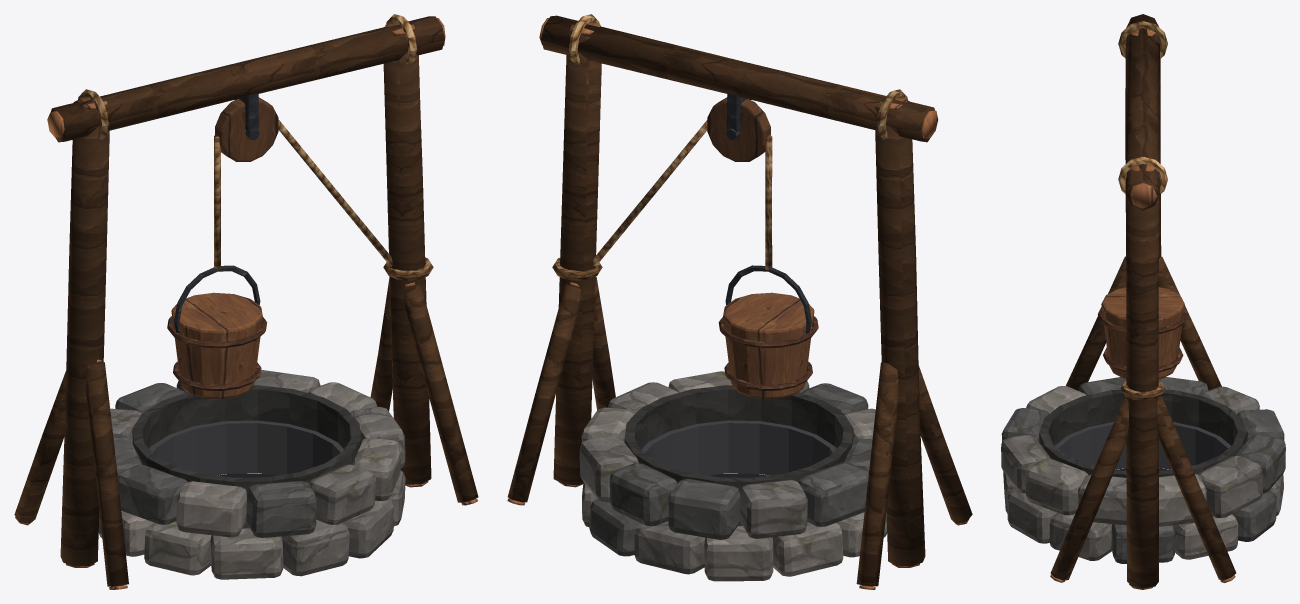
File: pit_bucket.glb
3 views of the same model, side by side, from view 1: azimuth 30°, elevation 25°; view 2: azimuth 150°, elevation 25°; view 3: azimuth 270°, elevation 25° (orthographic). The views are drawn at different scales.
Parts seen in each view (by area): view 1: model; view 2: model; view 3: model.
Part boxes in pixels (x1,y1,x2,y2): model: (14,14,478,589); model: (507,14,972,589); model: (1001,14,1285,589).
Bounding box in the file's own units: 1.42 × 1.66 × 1.02.
16 materials, 14 textured.
